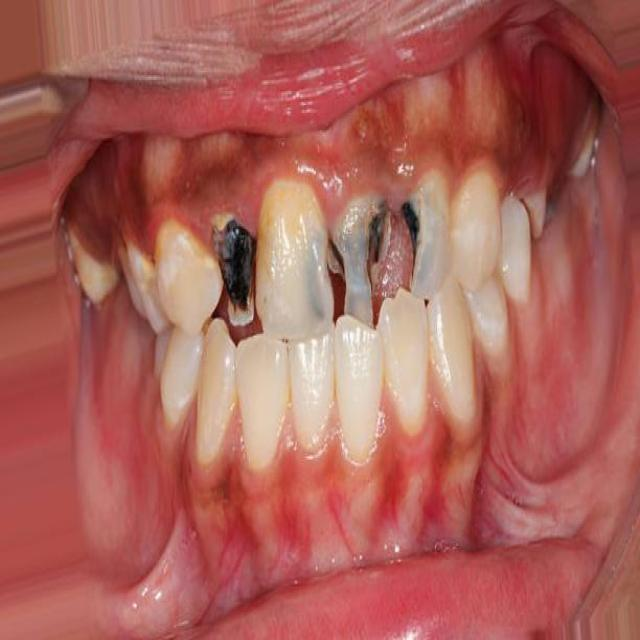caries: (325, 191, 392, 322), (208, 197, 272, 334), (402, 173, 458, 298)
